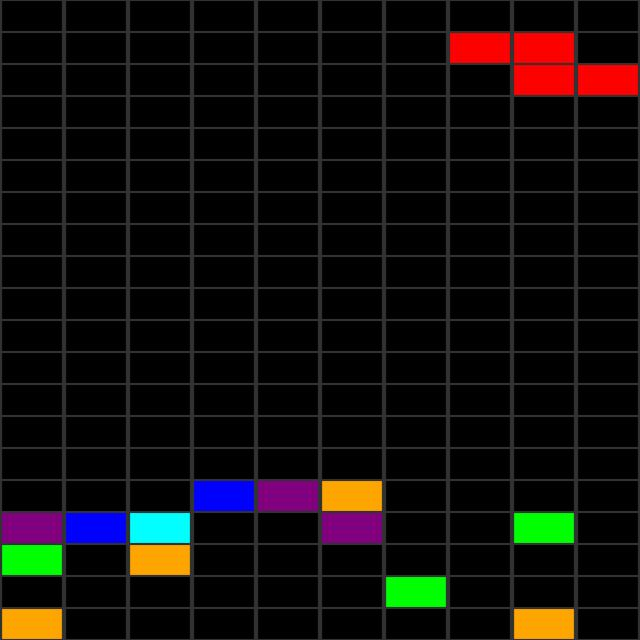Tetrimino_L: (445, 34, 640, 93)
